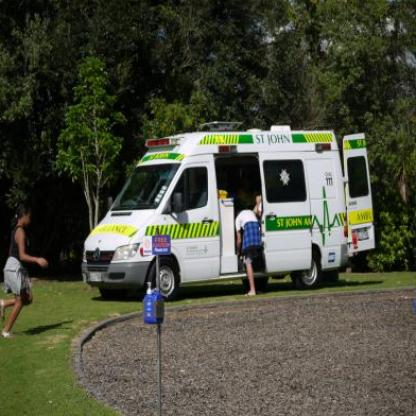truck: (82, 122, 376, 296)
